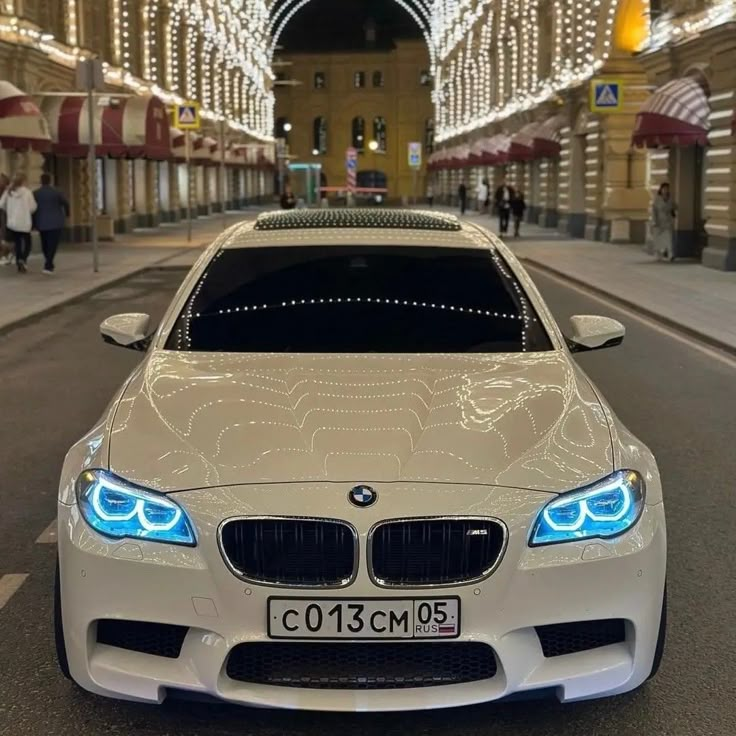plate: (263, 595, 463, 642)
